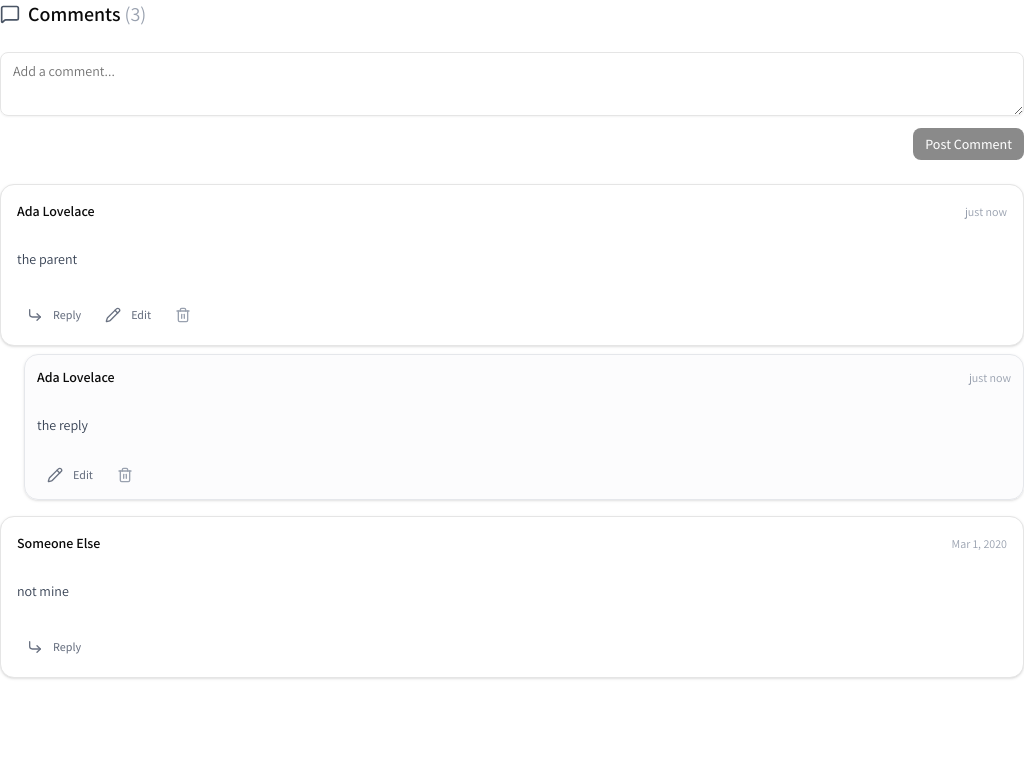
Scenario: deleting › opens the site dialog, NOT window.confirm
The image size is (1024, 768).
Expected: the text "the parent" is shown, [17,250,77,268]
Click the button without text below "the parent": (183, 315) [165,301,201,329]
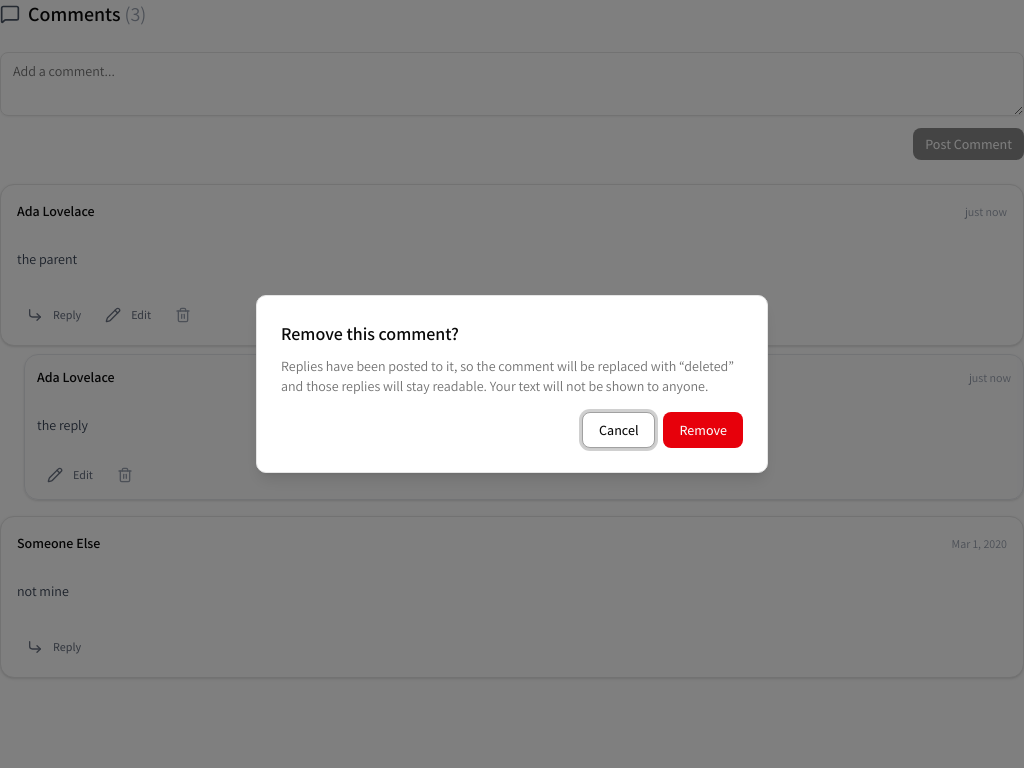
Expected: the dialog is shown, [256,295,768,473]
